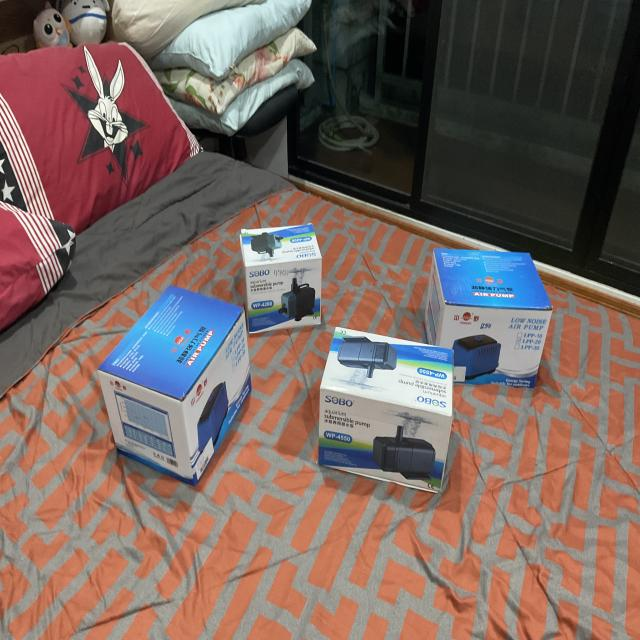SOBO_WP_4200: (311, 322, 469, 509), (232, 209, 331, 343)
YAMANO_LPP_20: (90, 269, 262, 492), (416, 225, 564, 394)
